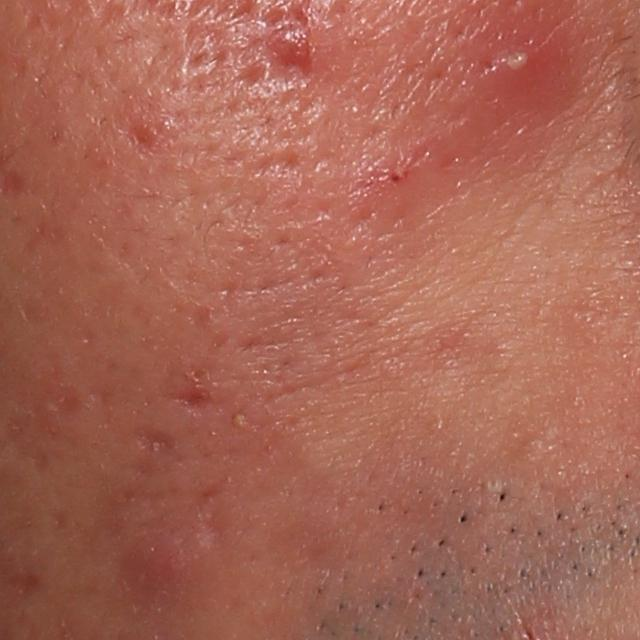atrophic_scar: (115, 101, 174, 157), (235, 151, 307, 177), (130, 421, 173, 458), (171, 385, 214, 412)
papule: (110, 514, 215, 590), (265, 21, 324, 74)
pustule: (487, 41, 556, 96)
